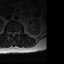CCS_normal: (13, 30, 14, 38)
LFS_normal: (16, 29, 18, 35)
LLS_normal: (14, 29, 16, 36)
RFS_normal: (9, 29, 11, 35)
RLS_normal: (11, 30, 13, 36)
